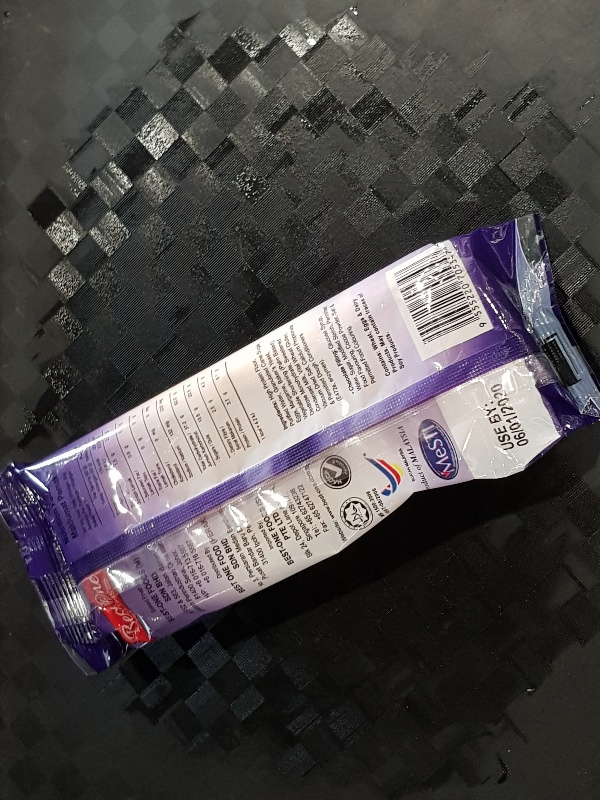Tinges Roll Chocolate: (1, 213, 600, 676)
